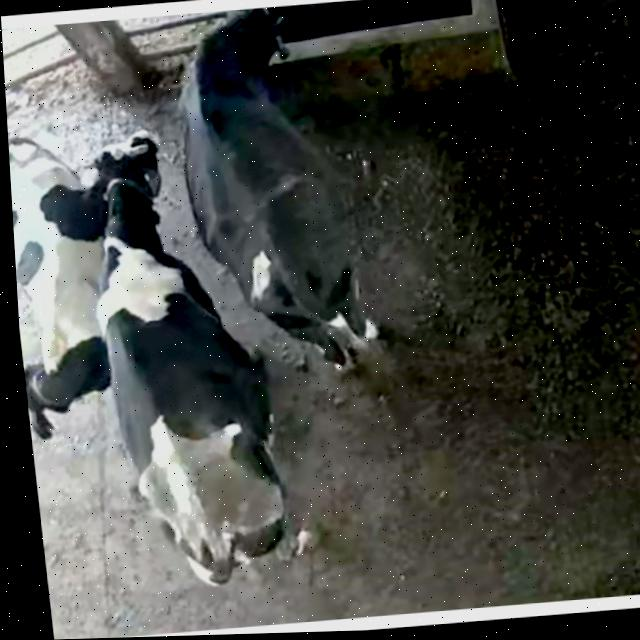drink: (154, 0, 371, 119)
